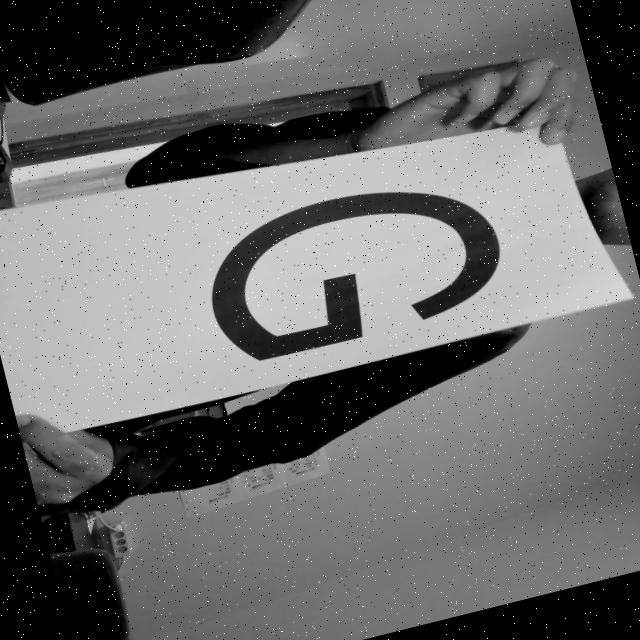g: (153, 140, 536, 390)
